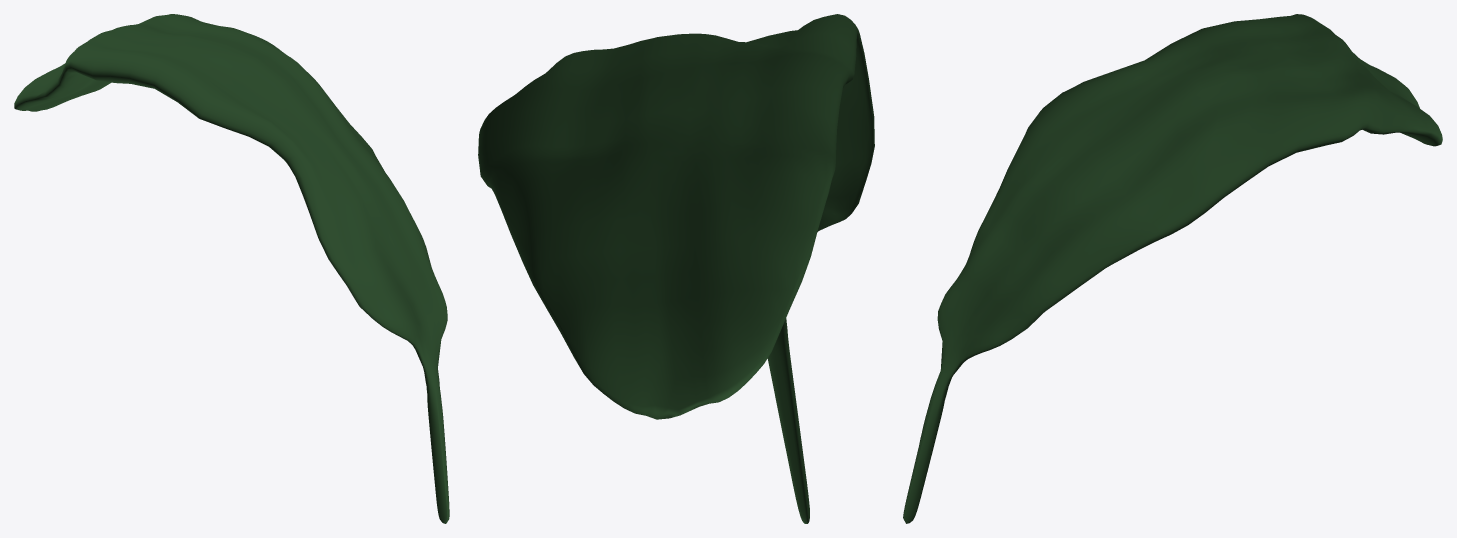
File: Hoja 3.fbx
3 views of the same model, side by side, from view 1: azimuth 30°, elevation 25°; view 2: azimuth 150°, elevation 25°; view 3: azimuth 270°, elevation 25° (orthographic). The views are drawn at different scales.
Parts seen in each view (by area): view 1: Hoja10; view 2: Hoja10; view 3: Hoja10.
Part boxes in pixels (x1,y1,x2,y2): Hoja10: [14, 14, 449, 523]; Hoja10: [478, 14, 874, 523]; Hoja10: [903, 14, 1442, 523].
Bounding box in the file's own units: 1.02 × 1.54 × 1.78.
